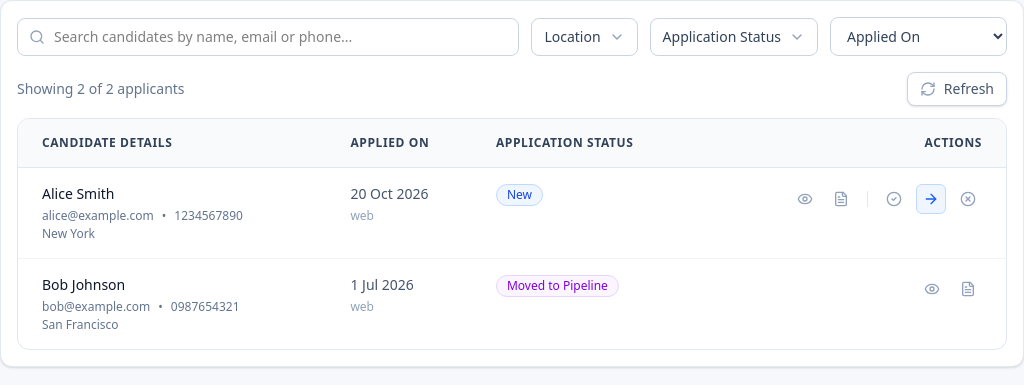
Test case: JobApplicantsTab Filtering › filters by multi-select application status (Moved to Pipeline mapping)
Click the button "Application Status".
click(734, 36)  # box x1=650 y1=18 x2=818 y2=56
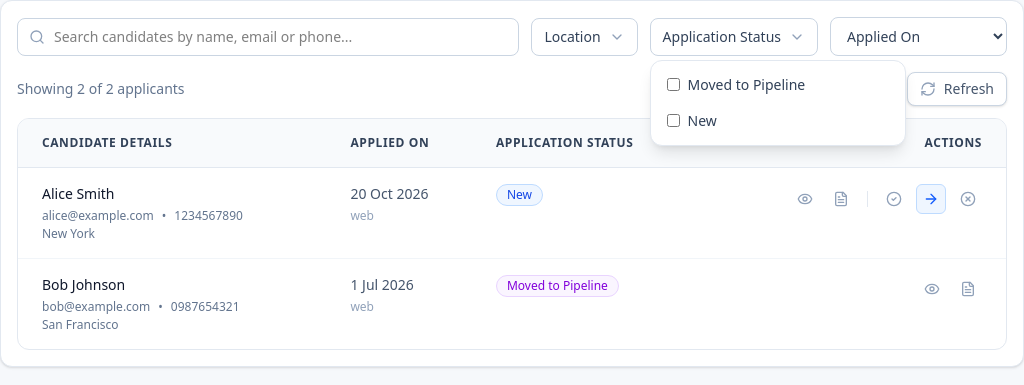
"Screening" status is mapped to "Moved to Pipeline" in the table
Click the checkbox labelled "Moved to Pipeline".
click(673, 84)  # box x1=667 y1=78 x2=680 y2=91
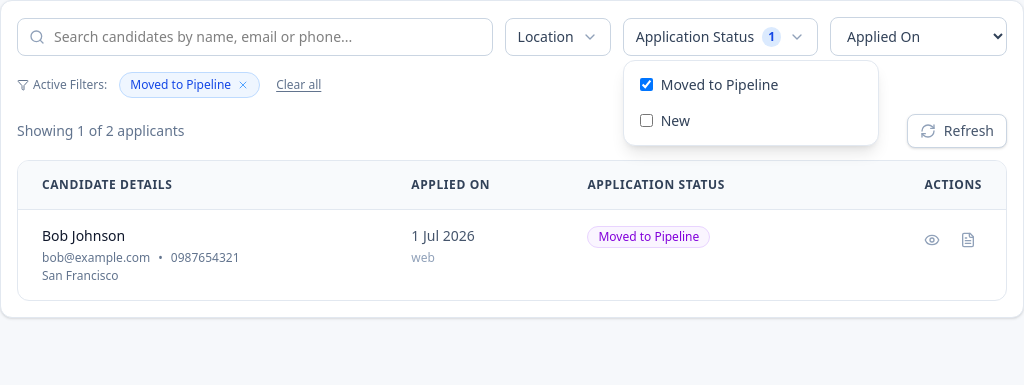
Expected: the text "Bob Johnson" is shown, x1=42 y1=226 x2=125 y2=245
Now the text "Alice Smith" is gone
